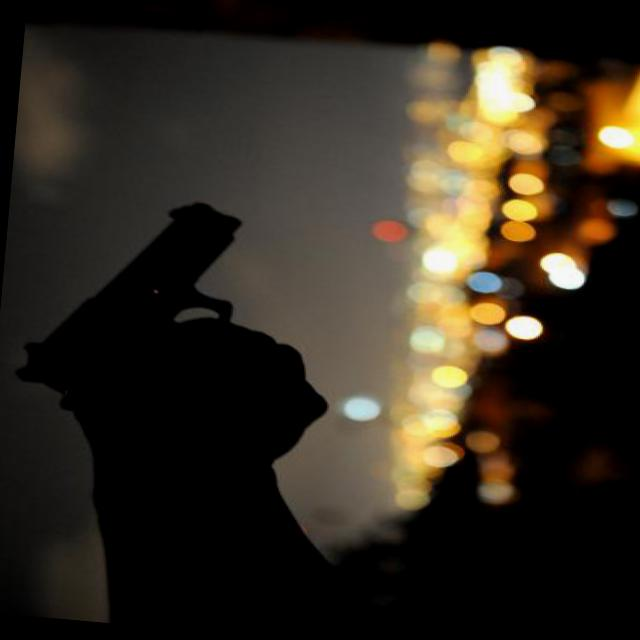handgun: (6, 187, 343, 435)
